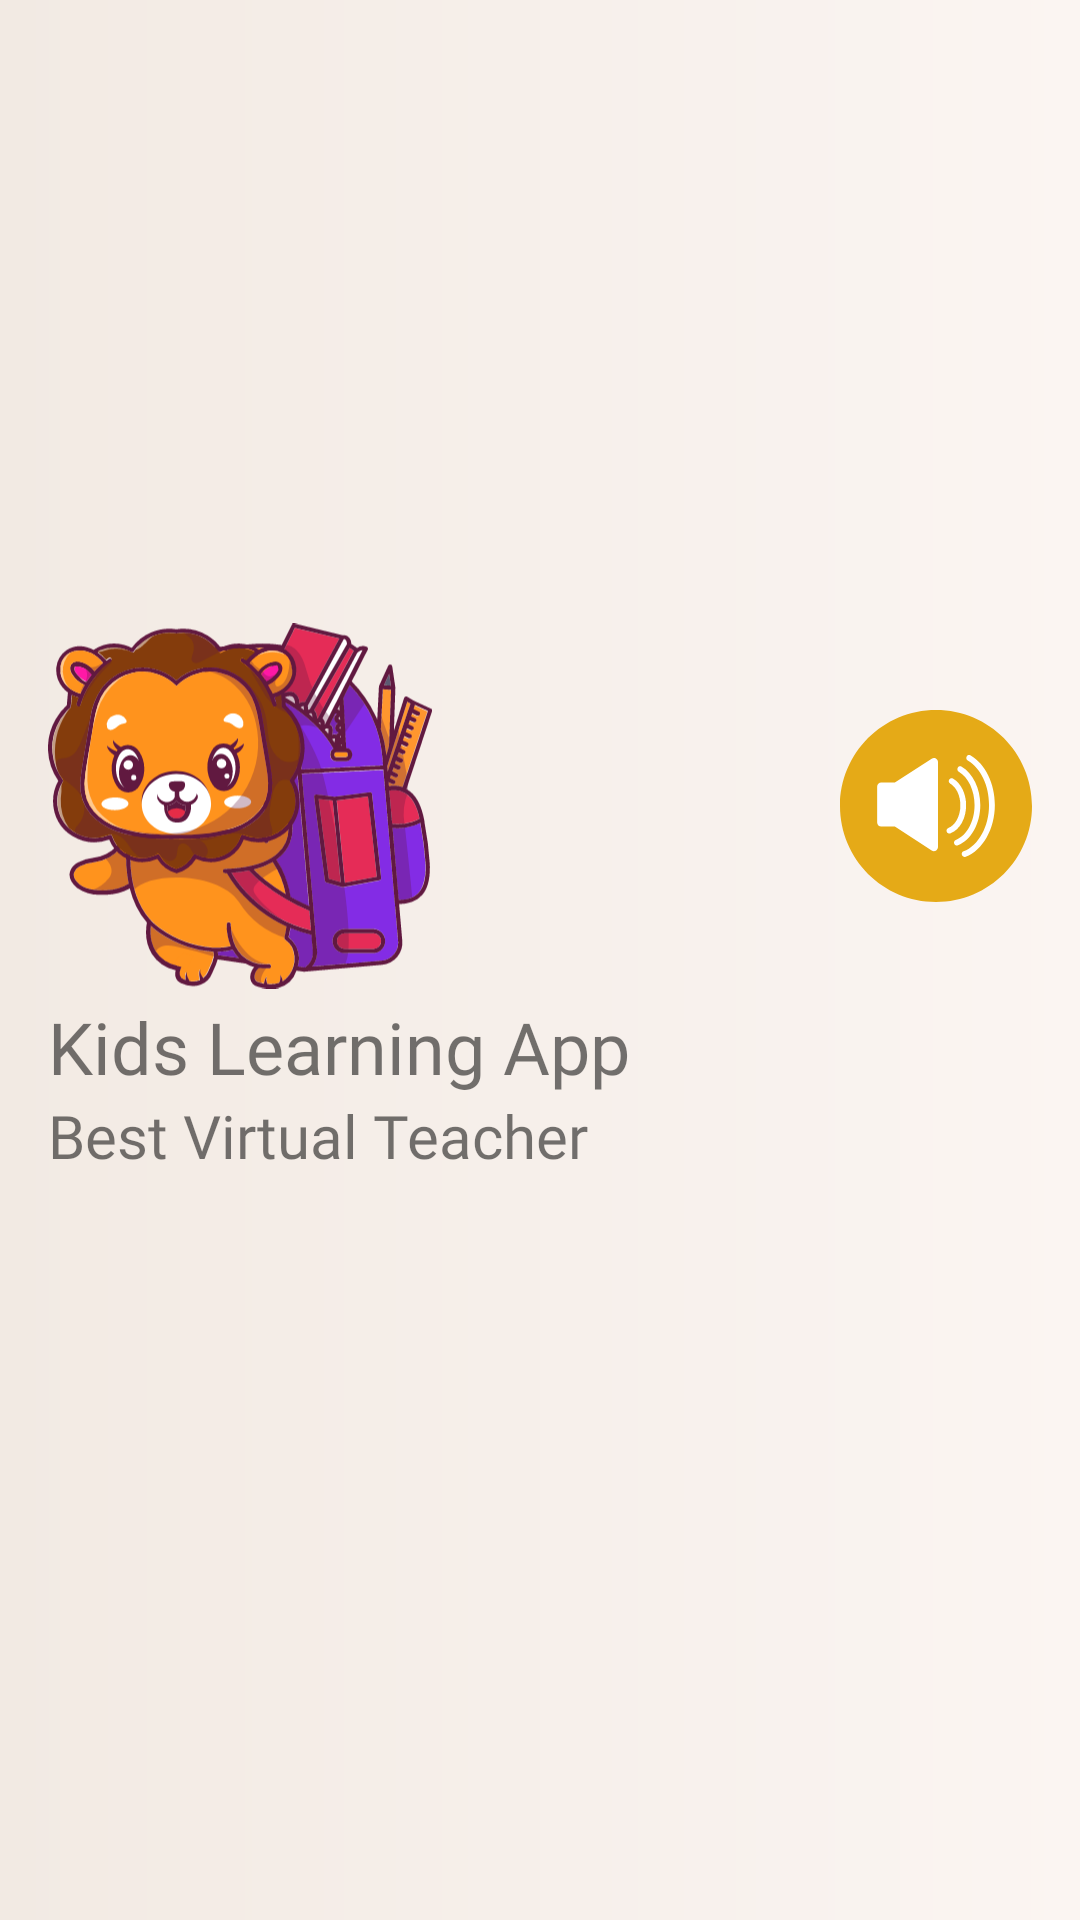

Icons on this 1080px x 1920px Android screen, each with the point to tap as (x=x, y=y):
speaker: (x=936, y=806)
